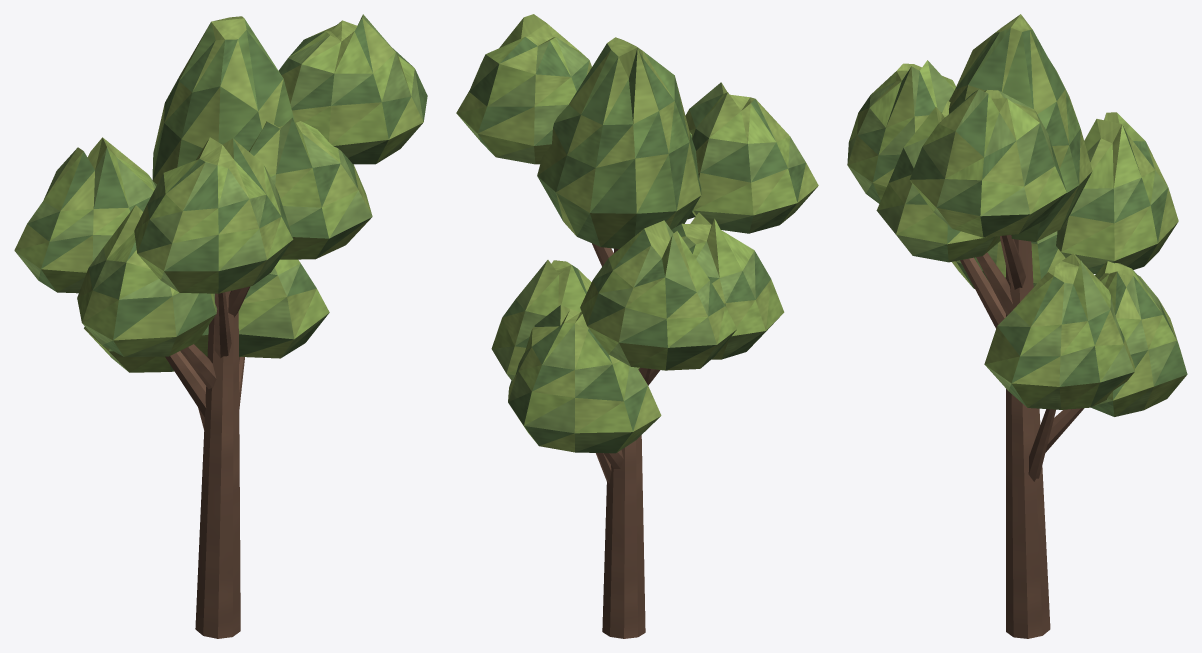
The model's file is tree_oak_02.fbx.
3 views of the same model, side by side, from view 1: azimuth 30°, elevation 25°; view 2: azimuth 150°, elevation 25°; view 3: azimuth 270°, elevation 25° (orthographic). The views are drawn at different scales.
Parts seen in each view (by area): view 1: tree_oak_02; view 2: tree_oak_02; view 3: tree_oak_02.
Boxes of the visible parts, x1,y1,x2,y2 form: tree_oak_02: (14, 14, 427, 638); tree_oak_02: (456, 14, 818, 638); tree_oak_02: (847, 14, 1187, 638).
Size of the model in its own units: 637 by 1110 by 560.
1 material, 1 textured.
